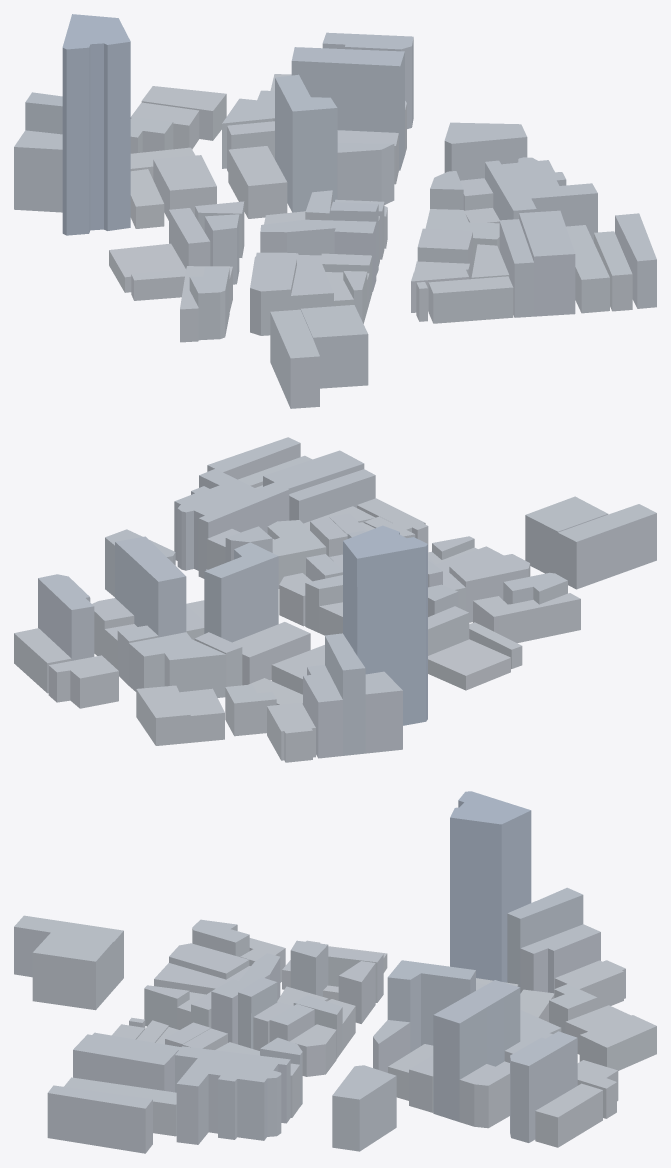
The picture shows the model from 3 angles, top to bottom: view 1: azimuth 30°, elevation 25°; view 2: azimuth 150°, elevation 25°; view 3: azimuth 270°, elevation 25°; orthographic projection. The views are drawn at different scales.
Bounding box in the file's own units: 97.69 × 40.6 × 134.
